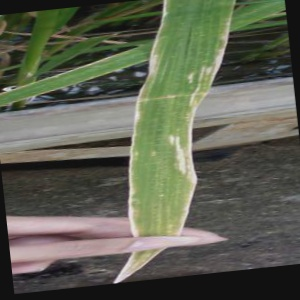Leaf_Blast: (122, 76, 195, 236)
